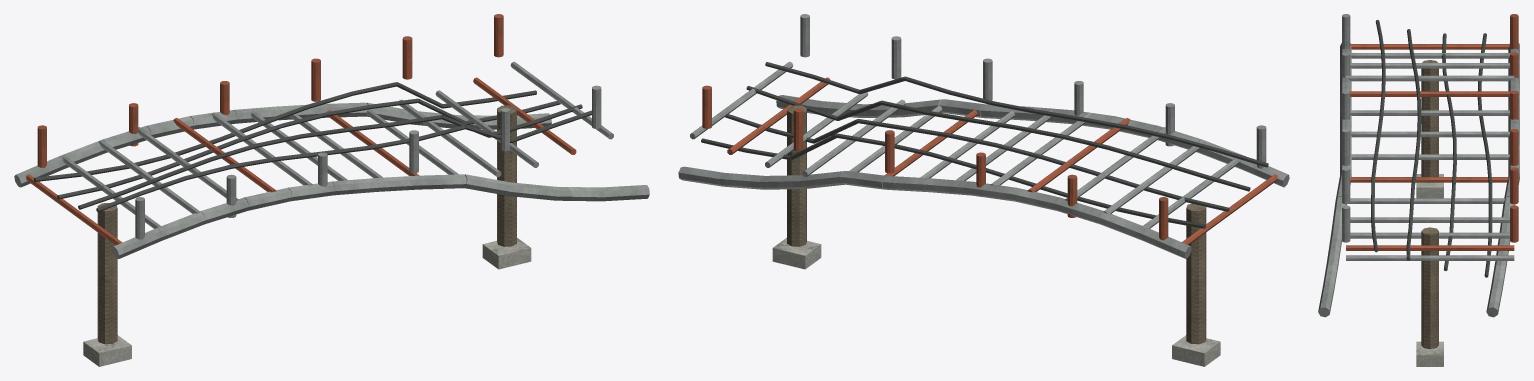
Rendered from collapsed_cable_tray.glb.
3 renders of one model, left to right at view 1: azimuth 30°, elevation 25°; view 2: azimuth 150°, elevation 25°; view 3: azimuth 270°, elevation 25°, orthographic. The views are drawn at different scales.
Visible parts, largest first — view 1: AshfallDecorativeProp; view 2: AshfallDecorativeProp; view 3: AshfallDecorativeProp.
Boxes of the visible parts, bbox=[...] form: AshfallDecorativeProp: bbox=[14, 14, 649, 366]; AshfallDecorativeProp: bbox=[678, 14, 1289, 366]; AshfallDecorativeProp: bbox=[1318, 14, 1519, 366].
Size of the model in its own units: 3.19 by 1.16 by 1.25.
6 materials, 6 textured.
